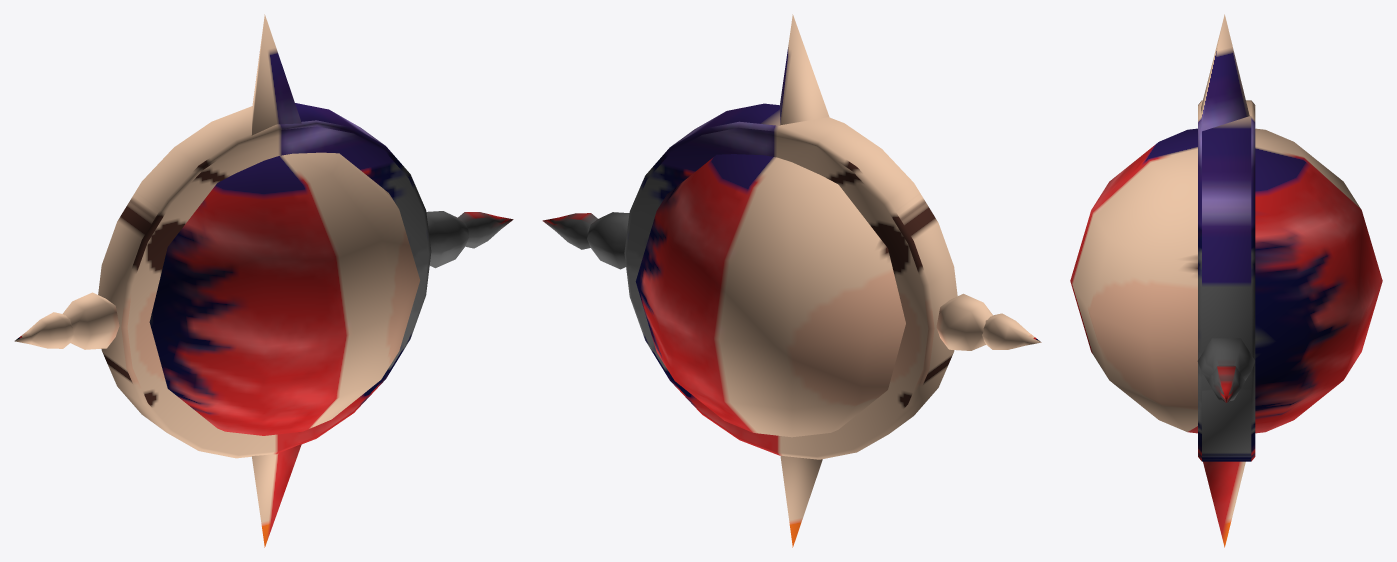
File: icon11.ico.obj
3 views of the same model, side by side, from view 1: azimuth 30°, elevation 25°; view 2: azimuth 150°, elevation 25°; view 3: azimuth 270°, elevation 25° (orthographic).
Bounding box in the file's own units: 2.81 × 2.86 × 1.52.
